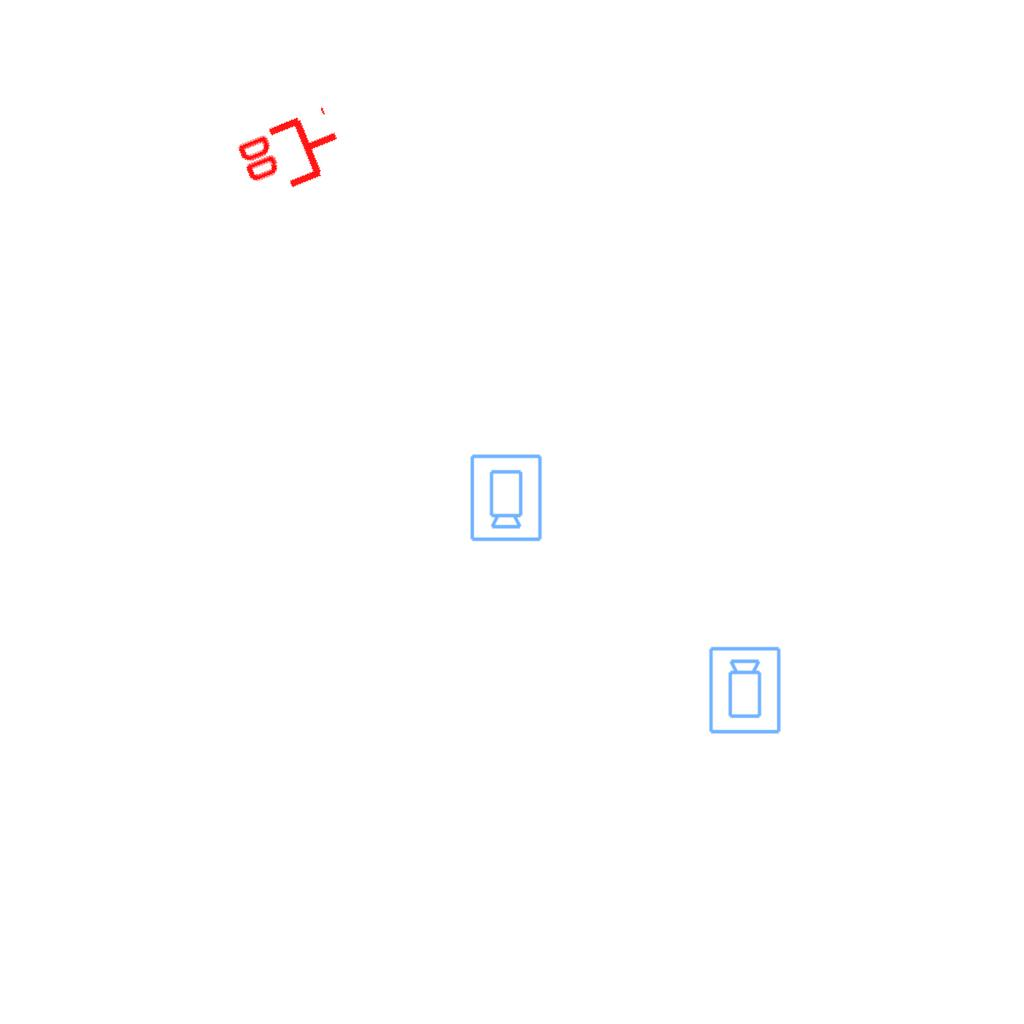Datenanschluss_zweifach: (230, 104, 353, 207)
KFO_Kamera_mit_Festobjektiv: (467, 452, 544, 543), (707, 645, 784, 736)
